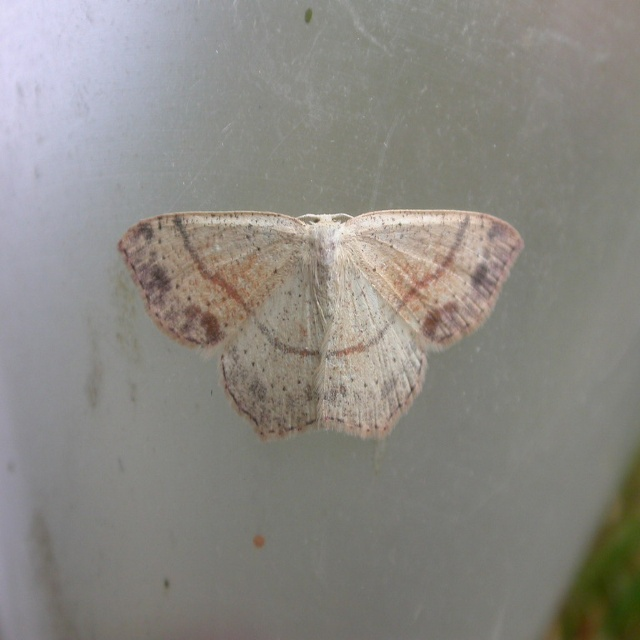Butterfly: (117, 211, 524, 443)
